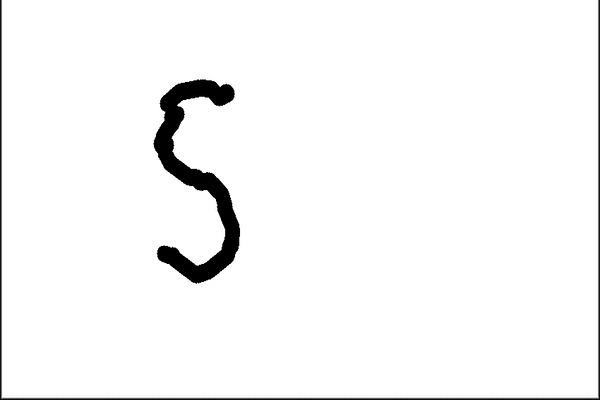S: (149, 73, 244, 287)
